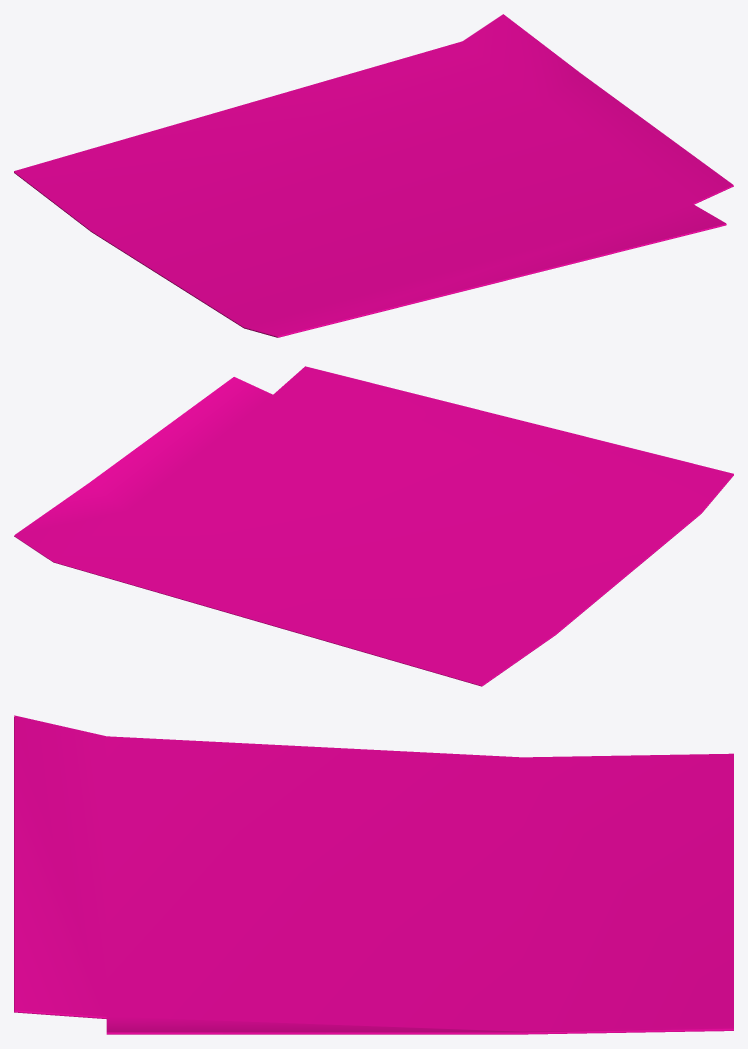
File: Metal_Debris_02.fbx
3 renders of one model, top to bottom at view 1: azimuth 30°, elevation 25°; view 2: azimuth 150°, elevation 25°; view 3: azimuth 270°, elevation 25°, orthographic. The views are drawn at different scales.
Visible parts, largest first — view 1: Metal_Debris_02; view 2: Metal_Debris_02; view 3: Metal_Debris_02.
Part boxes in pixels (x1,y1,x2,y2): Metal_Debris_02: (14,14,733,337); Metal_Debris_02: (14,366,733,686); Metal_Debris_02: (14,715,733,1034).
Size of the model in its own units: 261 by 21.41 by 243.
